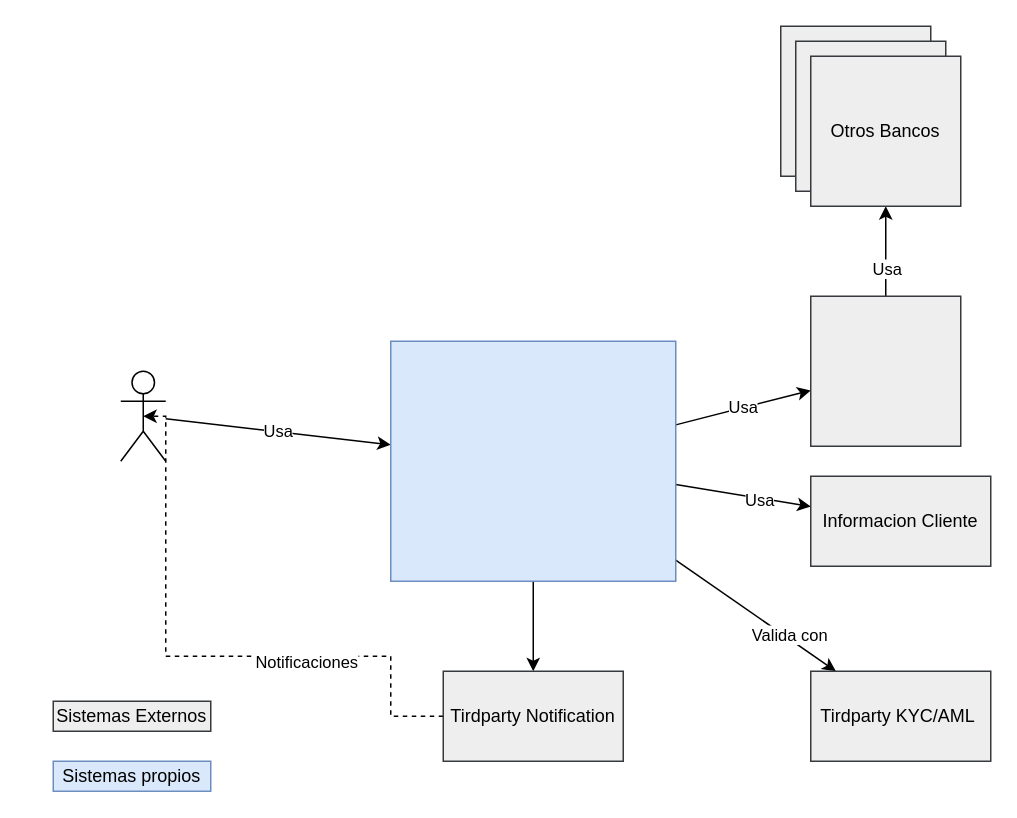
The diagram is 1017 pixels wide and 818 high, and some of its shapes have lost their labels. The box of each missing label's shape, as (x1, y1, x2, y2) in pixels:
Core Bancario: (809, 295, 961, 446)
Internet Banking BP: (389, 340, 676, 581)
Usuario internet banking BP: (119, 370, 166, 461)
